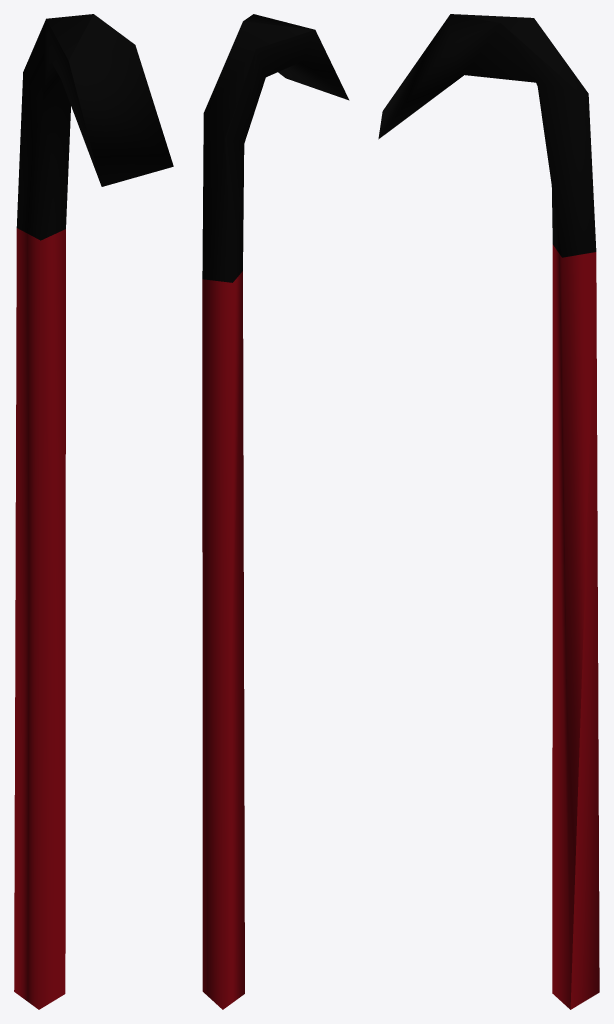
The model's file is Crowbar_einfach_2.fbx.
3 renders of one model, left to right at view 1: azimuth 30°, elevation 25°; view 2: azimuth 150°, elevation 25°; view 3: azimuth 270°, elevation 25°, orthographic. The views are drawn at different scales.
Visible parts, largest first — view 1: Crowbar.001; view 2: Crowbar.001; view 3: Crowbar.001.
Part boxes in pixels (x1,y1,x2,y2): Crowbar.001: (14, 14, 173, 1009); Crowbar.001: (202, 14, 349, 1009); Crowbar.001: (378, 14, 599, 1009).
Bounding box in the file's own units: 338 × 4654 × 948.
